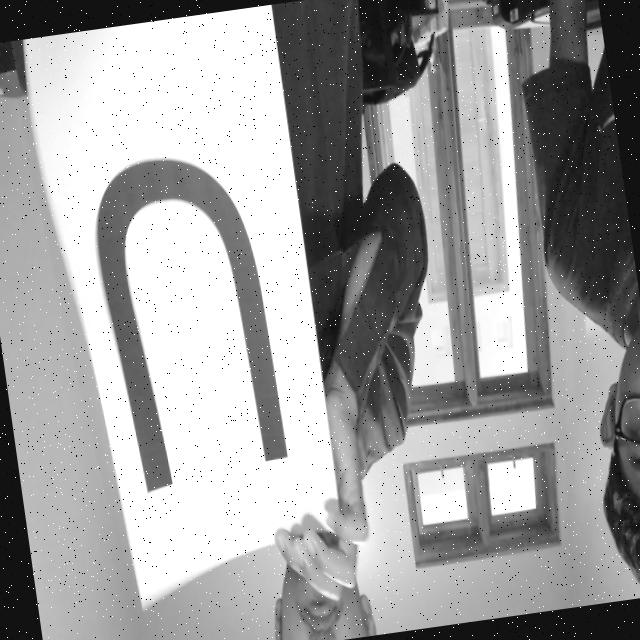u: (68, 135, 300, 509)
